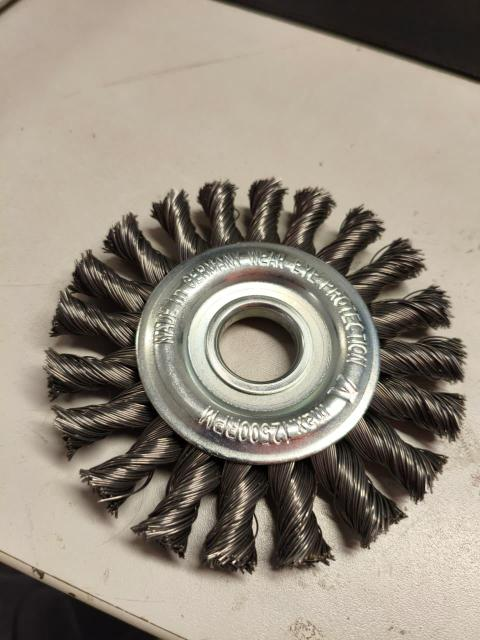Metal: (28, 172, 479, 572)
